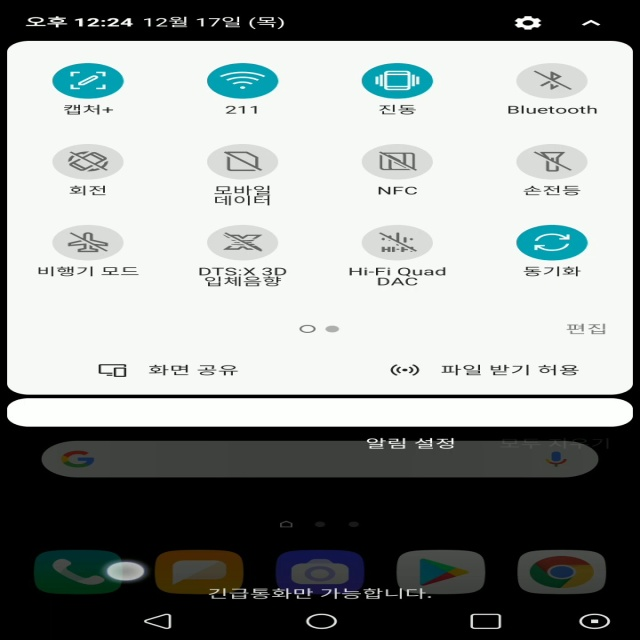Cursor: (104, 560, 148, 583)
